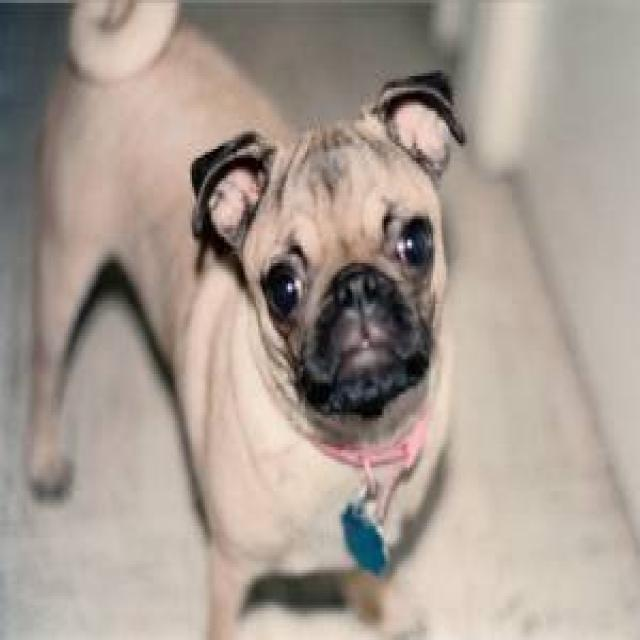dog-pug: (11, 3, 469, 634)
